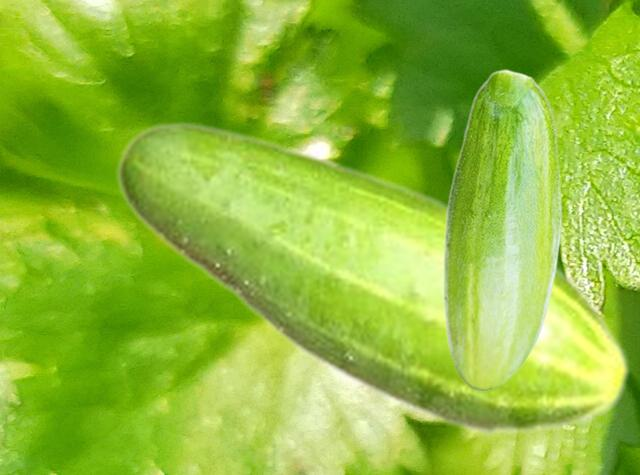cucumber: (115, 120, 631, 438), (442, 69, 561, 390)
